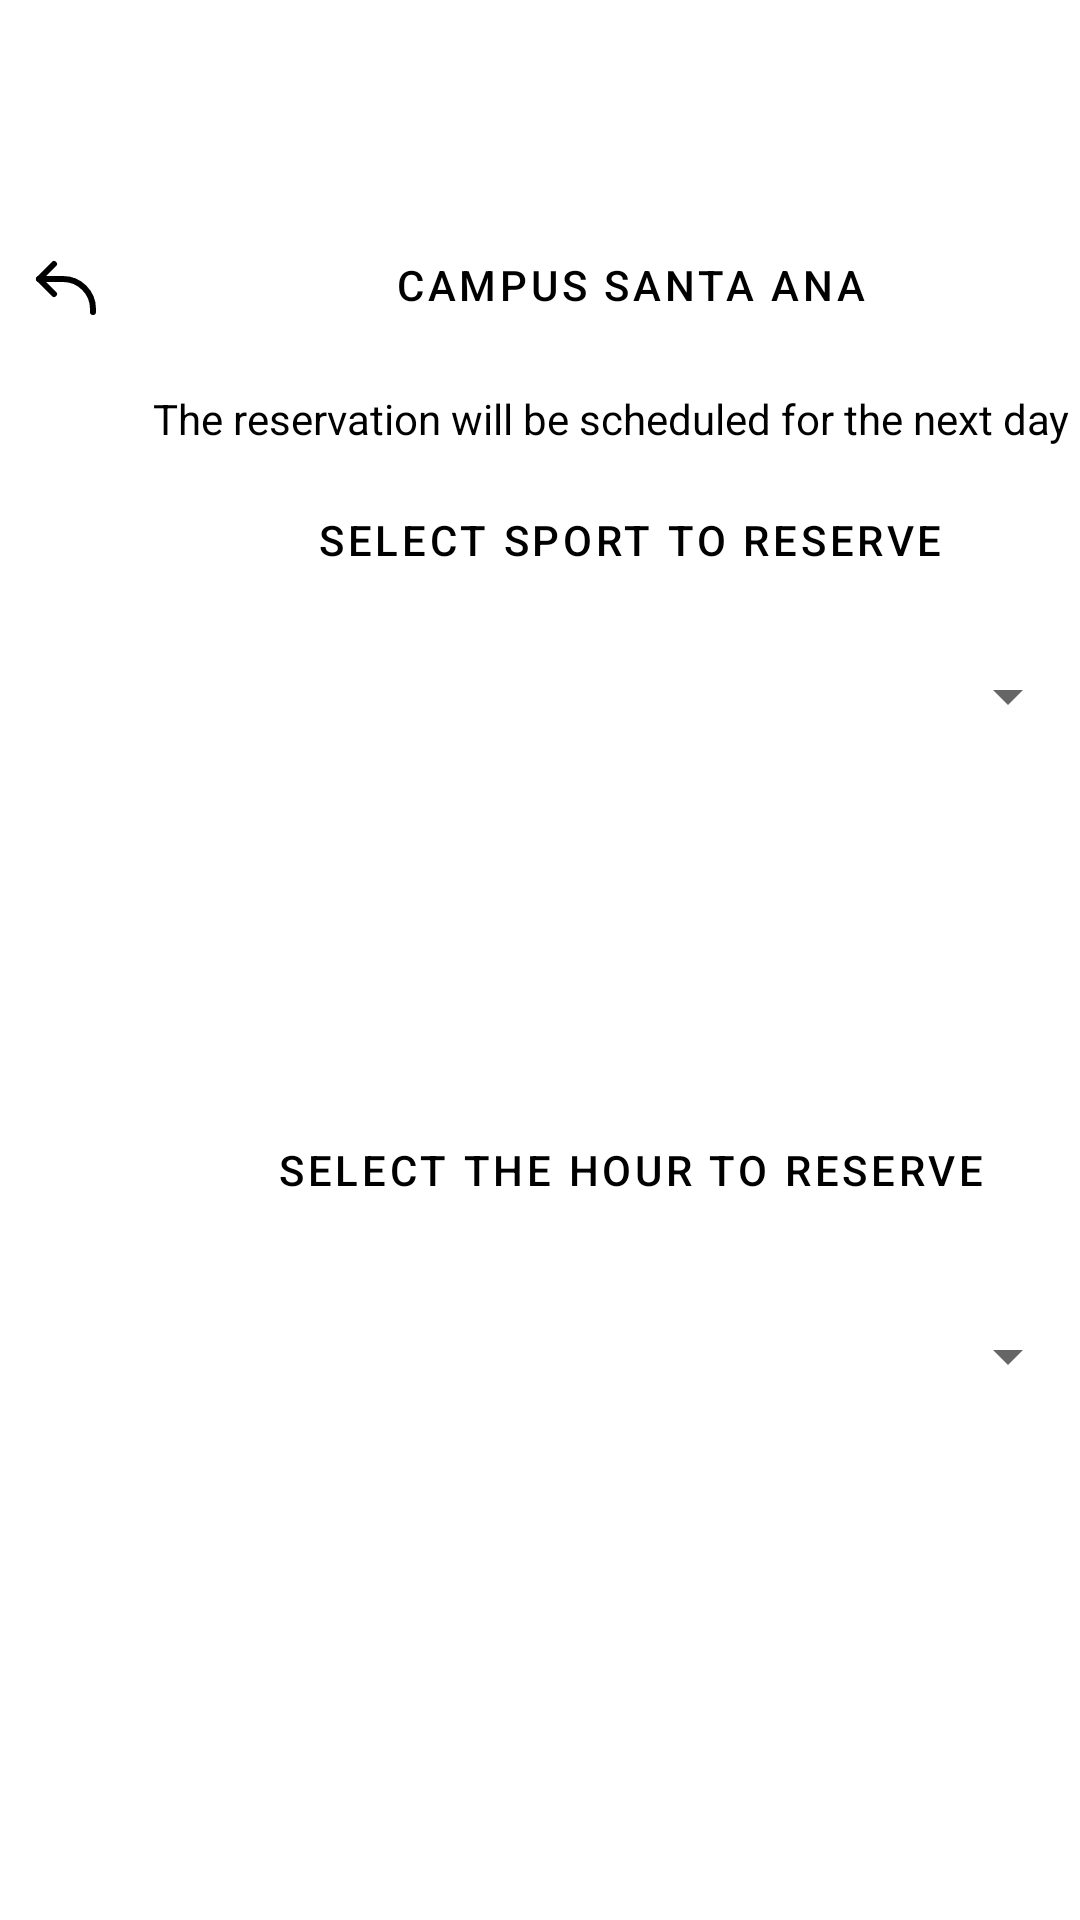

Where icons sit on this 1080 × 1920 app screen, as (x1,y1,x2,y2):
arrow back: (36,261,96,315)
